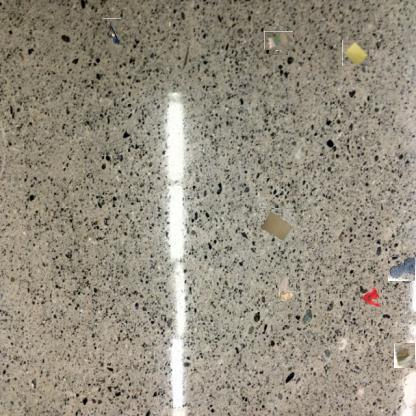dirty: (258, 208, 294, 242), (342, 40, 369, 67), (266, 29, 290, 52), (394, 342, 415, 368), (276, 276, 296, 302), (103, 18, 121, 45)
liquid: (389, 255, 416, 283), (360, 286, 382, 308)
